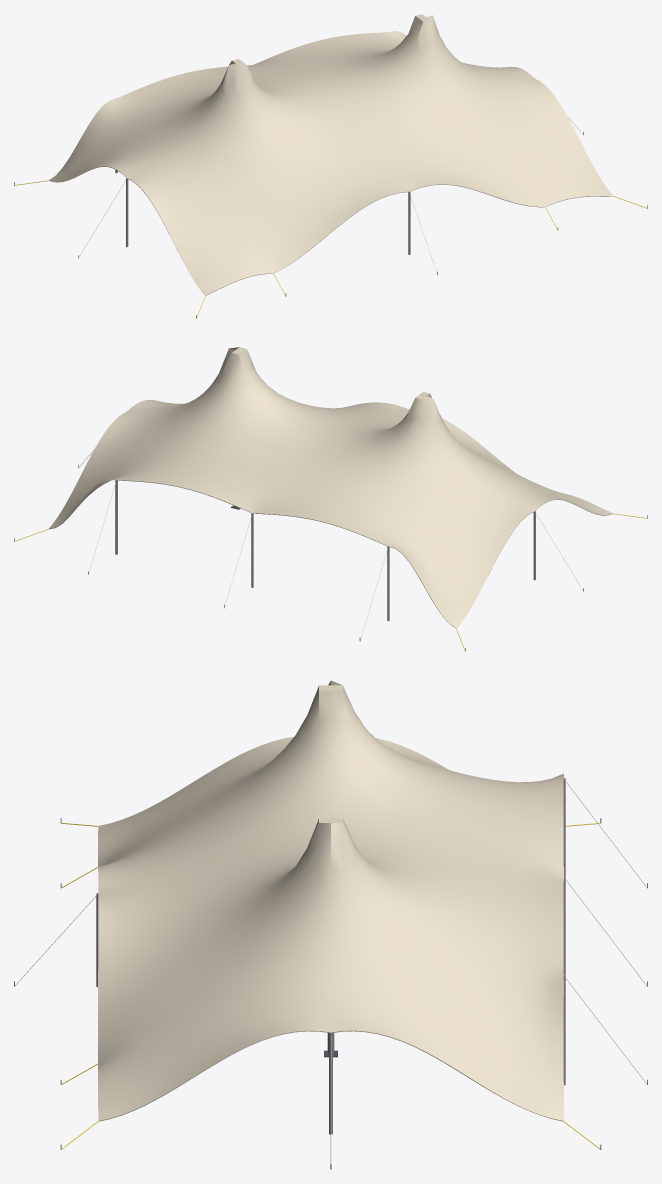
File: stretch_tent_10x15.gltf
3 renders of one model, top to bottom at view 1: azimuth 30°, elevation 25°; view 2: azimuth 150°, elevation 25°; view 3: azimuth 270°, elevation 25°, orthographic. The views are drawn at different scales.
Parts seen in each view (by area): view 1: stretch_tent_10x15; view 2: stretch_tent_10x15; view 3: stretch_tent_10x15.
Part boxes in pixels (x1,y1,x2,y2): stretch_tent_10x15: [14, 14, 647, 318]; stretch_tent_10x15: [14, 347, 647, 651]; stretch_tent_10x15: [14, 680, 647, 1169].
Size of the model in its own units: 18.62 by 5.52 by 13.62.
Materials: 6 (3 with a texture image).
